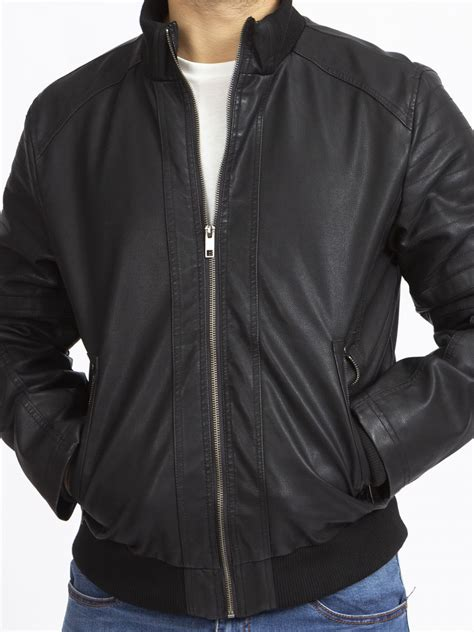cuero: (2, 1, 474, 616)
